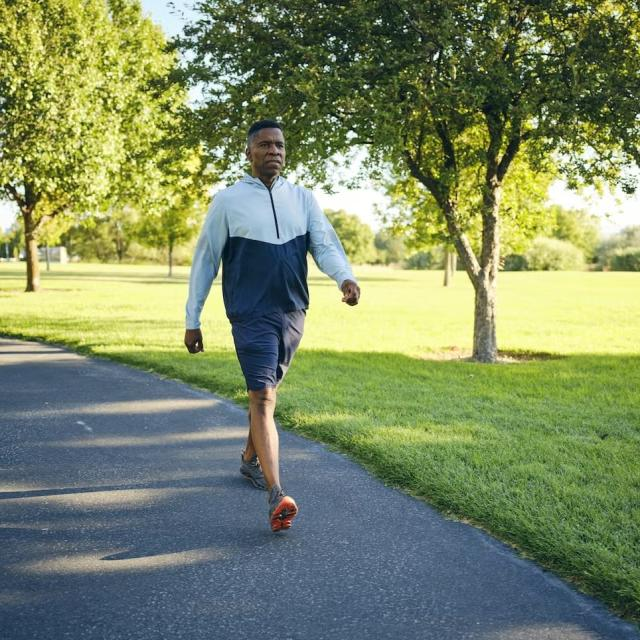Person: (175, 108, 369, 558)
